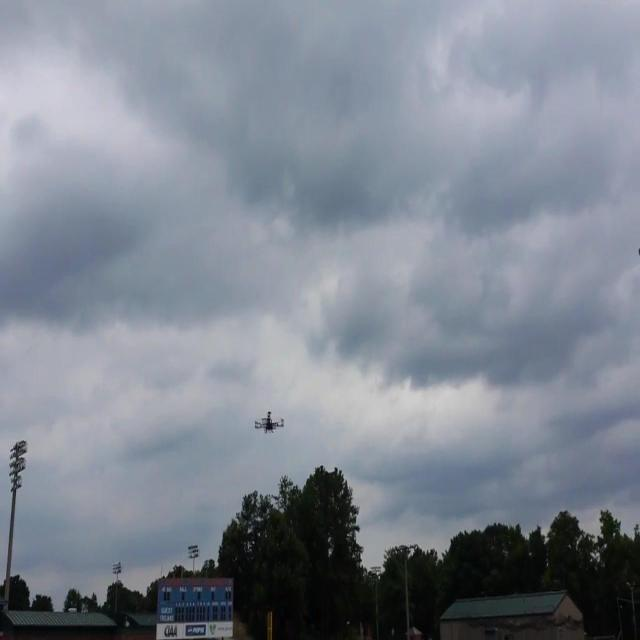drone: (252, 408, 286, 438)
